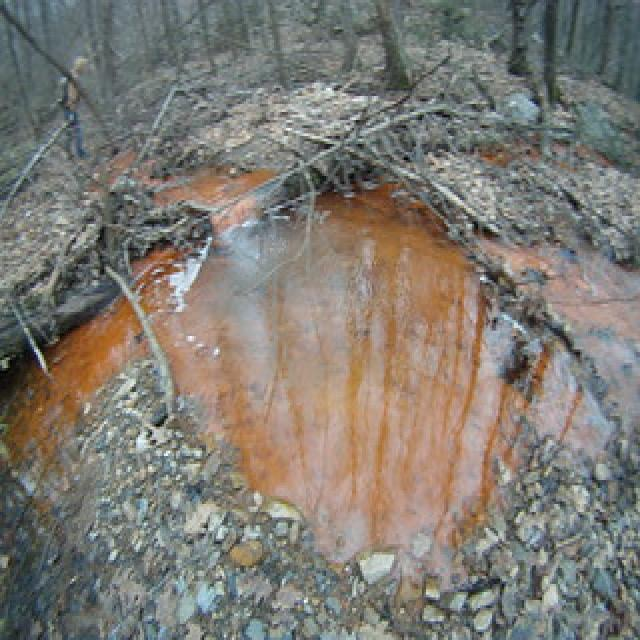yellow_boy: (138, 184, 606, 557), (8, 299, 144, 453), (154, 168, 268, 208), (220, 197, 256, 227)
